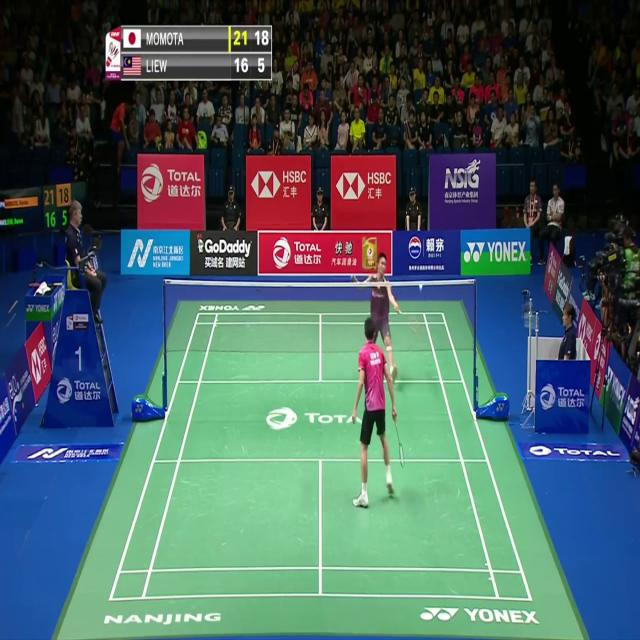Shuttlecock: (418, 282, 424, 294)
